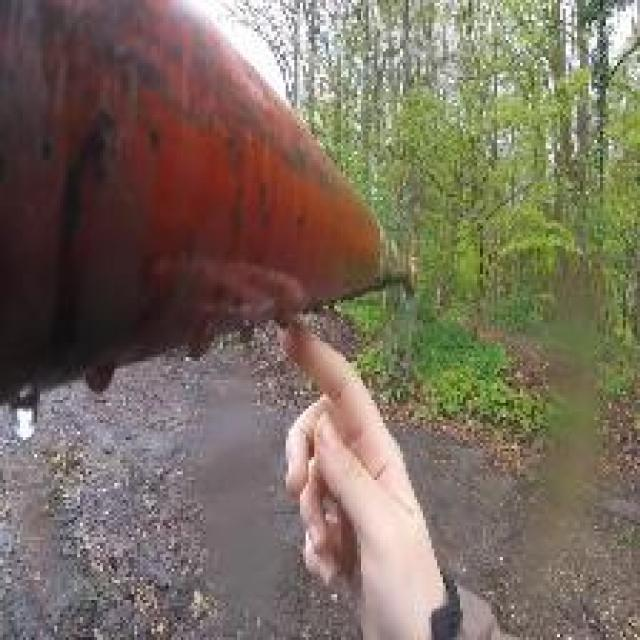other: (1, 22, 404, 339)
